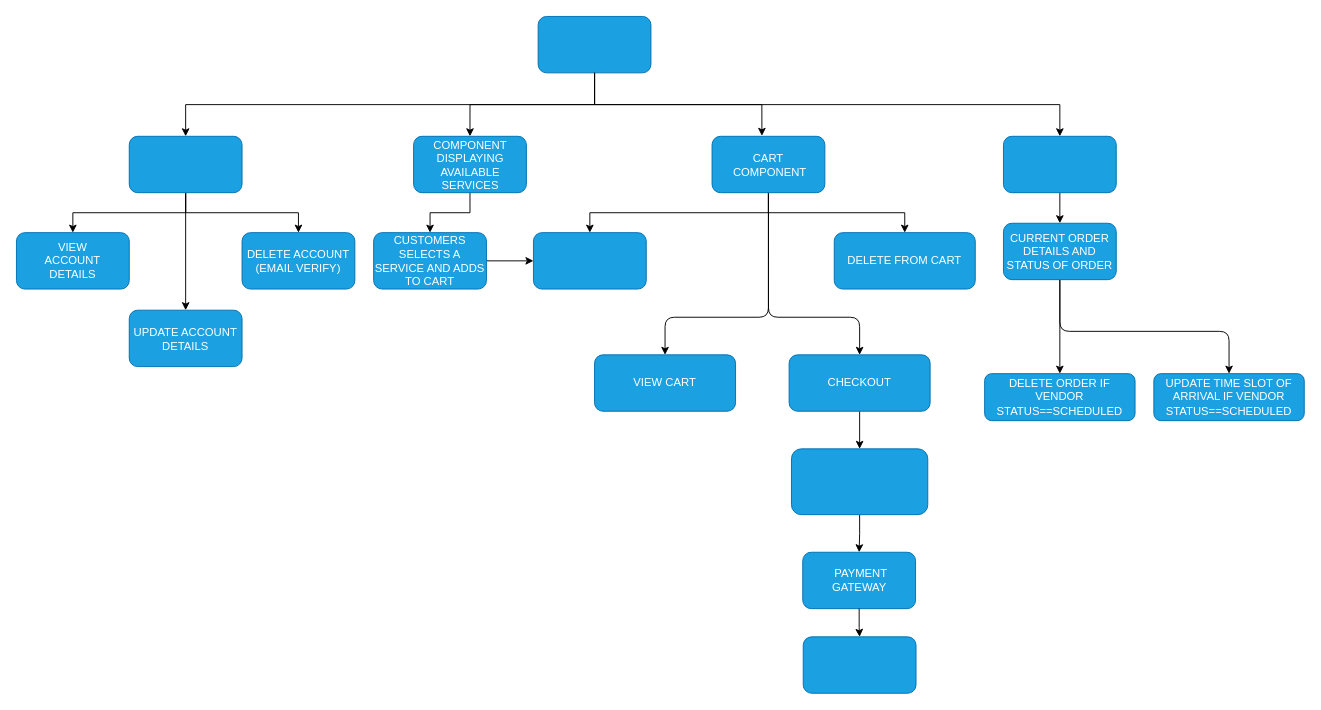
The diagram is 1321 pixels wide and 710 high, and some of its shapes have lost their labels. The shapes that lost their labels are listed below. From the top down, each one's centre as x and y in pixels, then its label:
At (x=594, y=44): "CUSTOMER DASHBOARD".
At (x=185, y=164): "CUSTOMER ACCOUNT COMPONENT".
At (x=1059, y=164): "ORDERS COMPONENT".
At (x=589, y=260): "UPDATE CART".
At (x=859, y=481): "CUSTOMER ENTERS THE ADDRESS AND TIME SLOT OF AVAILABILITY".
At (x=859, y=664): "VENDOR IS NOTIFIED, NEW ORDER IS CREATED".
